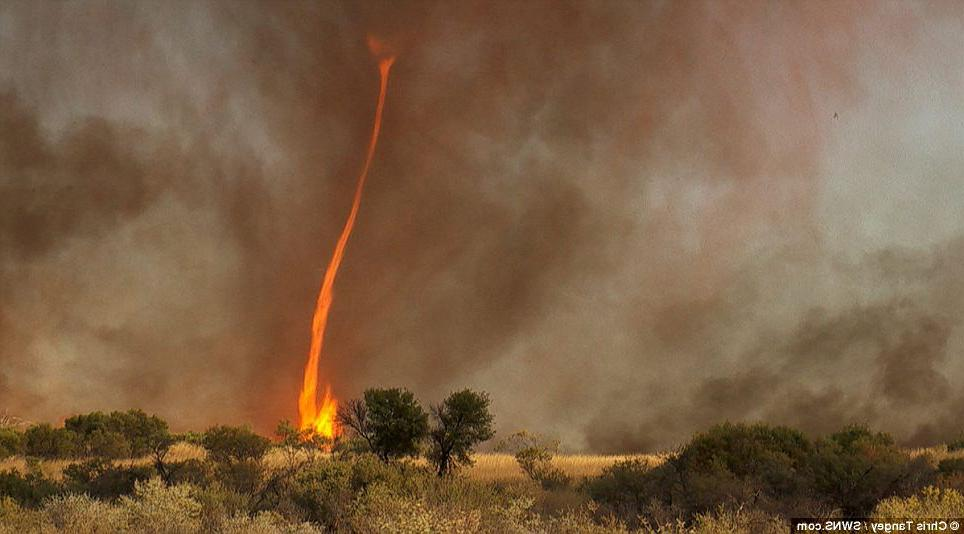fire: (298, 42, 390, 448)
